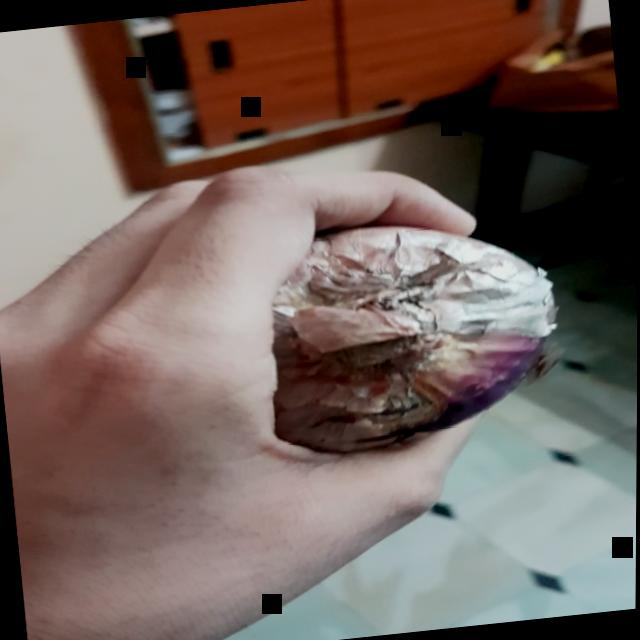onion: (197, 207, 574, 470)
